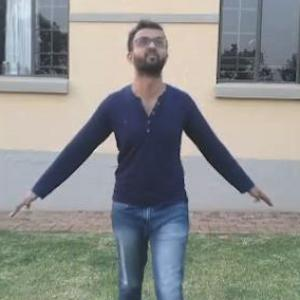land: (18, 20, 276, 299)
